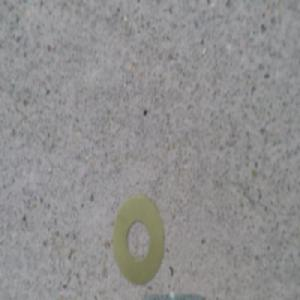Washer: (112, 195, 165, 286)
